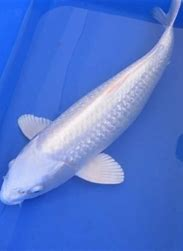white: (1, 1, 182, 205)
